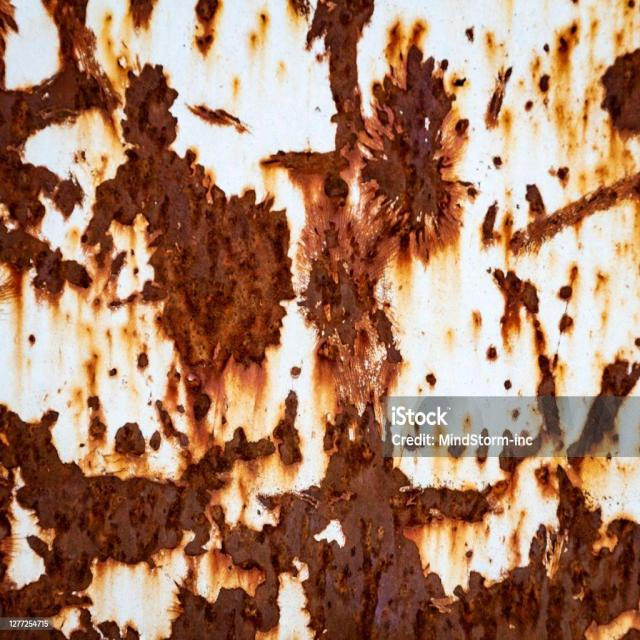Pitting Corrosion: (0, 0, 639, 639), (524, 21, 639, 189), (483, 64, 516, 140), (186, 104, 249, 133), (192, 0, 221, 58), (128, 0, 158, 32)
